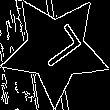L_SW: (27, 22, 83, 77)
